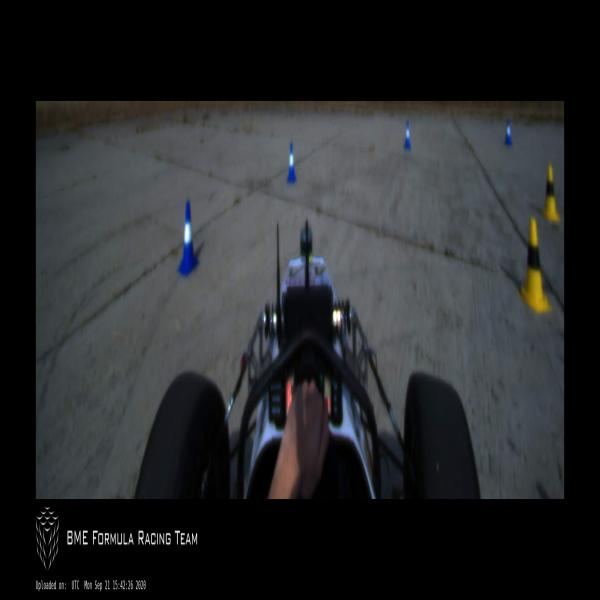blue_cone: (178, 201, 198, 276), (287, 143, 296, 183), (505, 119, 512, 146), (404, 120, 410, 150)
yellow_cone: (518, 217, 550, 311), (542, 164, 560, 221)
